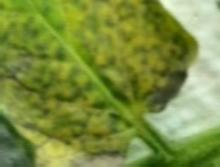Tomato leaf bacterial spot: (0, 0, 196, 167)
